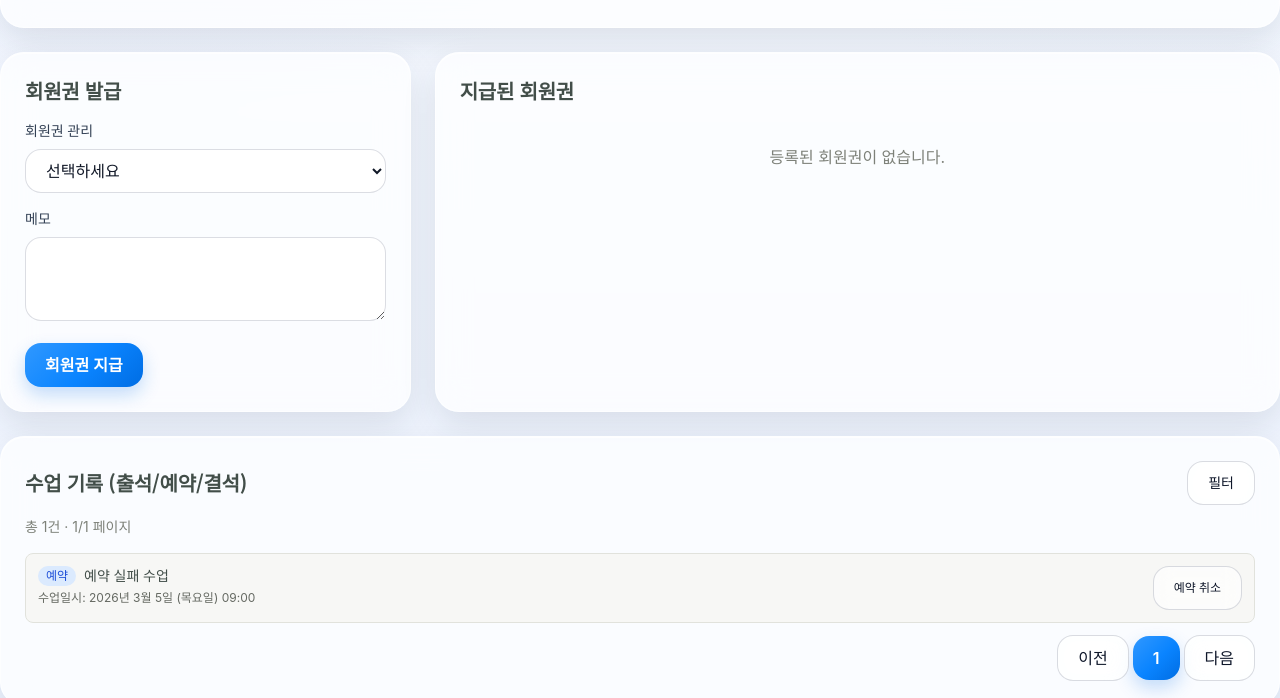
CustomerDetail page › shows error when canceling reserved class fails
(page scrolled)
Click the button "예약 취소" at x=1197, y=588, box [1153,566,1242,610]
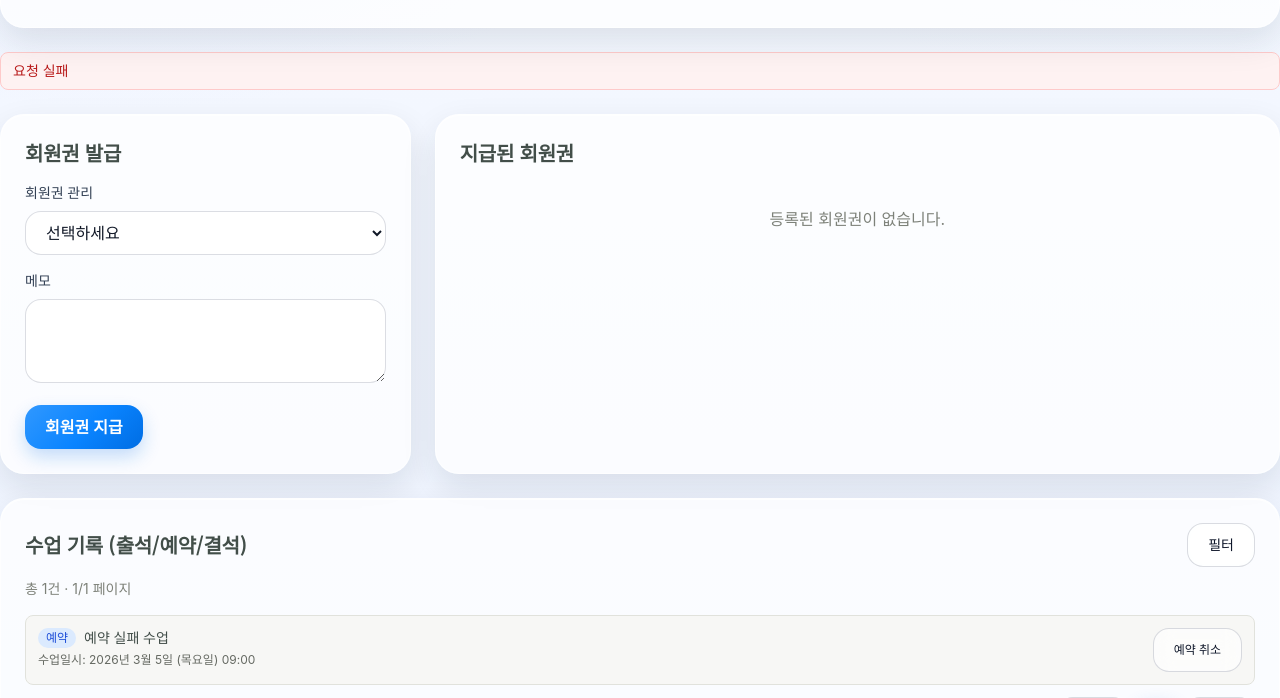
expect the text "요청 실패" is shown: met, box [0,52,1279,90]
